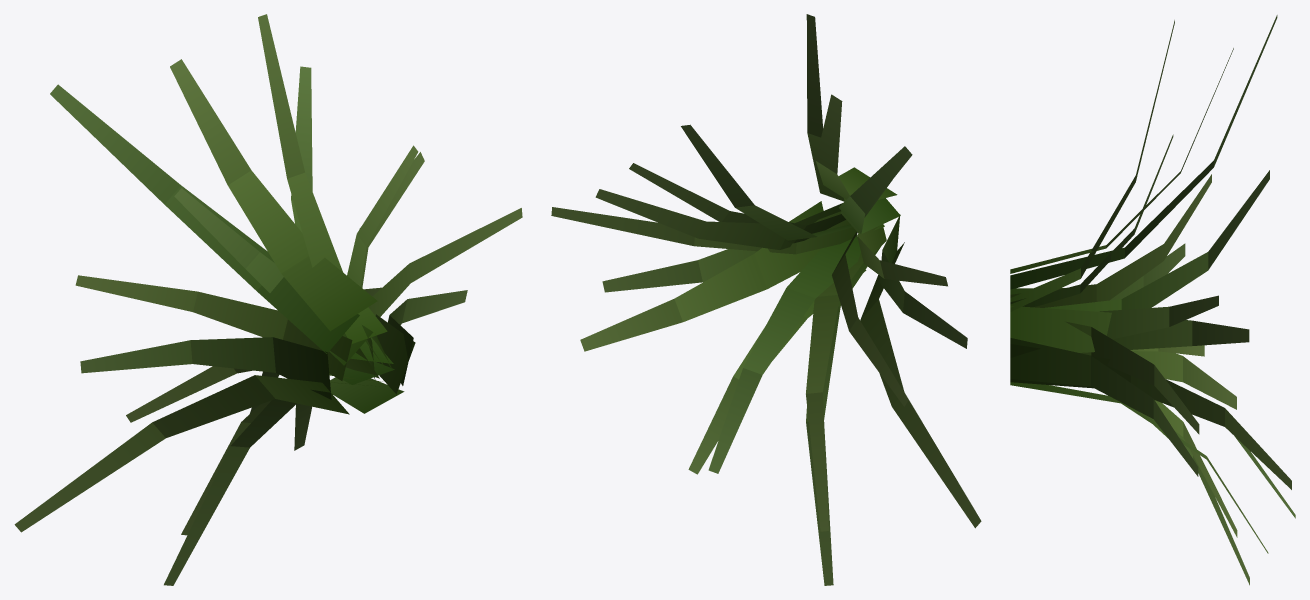
Rendered from Grass_Patch_Mowed.glb.
3 views of the same model, side by side, from view 1: azimuth 30°, elevation 25°; view 2: azimuth 150°, elevation 25°; view 3: azimuth 270°, elevation 25° (orthographic). The views are drawn at different scales.
Visible parts, largest first — view 1: Grass_Patch_Mowed; view 2: Grass_Patch_Mowed; view 3: Grass_Patch_Mowed.
Part boxes in pixels (box(x1,y1,x2,y2)): Grass_Patch_Mowed: box(14, 14, 522, 585); Grass_Patch_Mowed: box(551, 14, 981, 585); Grass_Patch_Mowed: box(1010, 15, 1295, 585).
Size of the model in its own units: 0.2101 by 0.24 by 0.1049.
